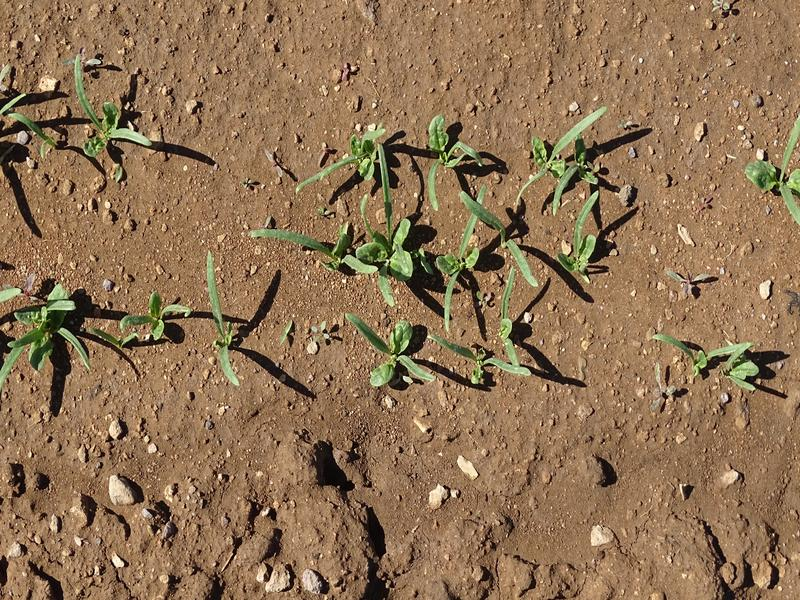Espinaca: (300, 123, 637, 394), (7, 262, 250, 393), (9, 58, 161, 157), (657, 318, 770, 396), (754, 115, 800, 217)
